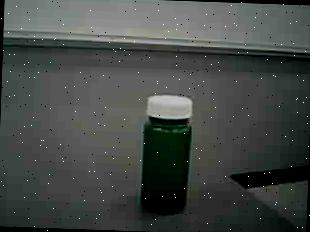Bottle C: (126, 87, 208, 225)
